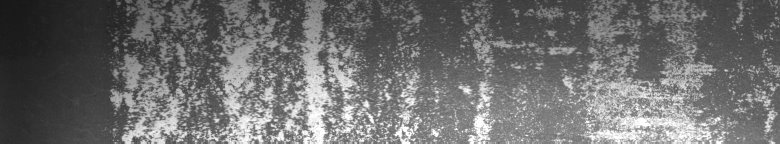kb: (105, 4, 776, 136)
